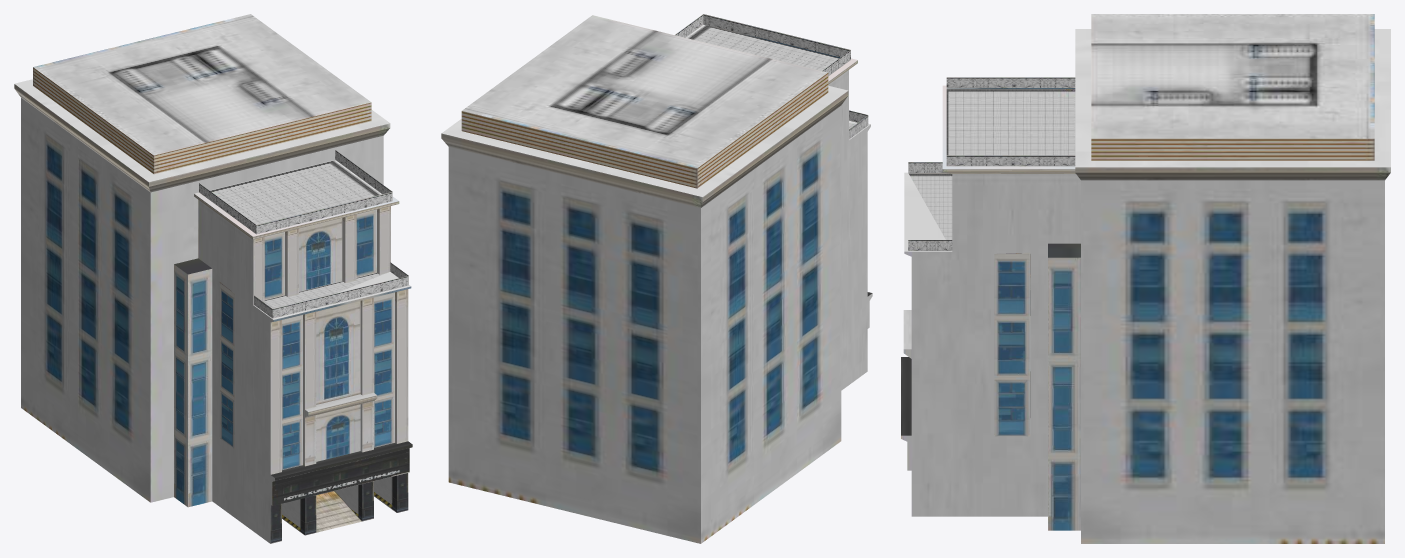
3 views of the same model, side by side, from view 1: azimuth 30°, elevation 25°; view 2: azimuth 150°, elevation 25°; view 3: azimuth 270°, elevation 25° (orthographic). The views are drawn at different scales.
Parts seen in each view (by area): view 1: Mesh1; view 2: Mesh1; view 3: Mesh1.
Part boxes in pixels (<box>): Mesh1: <box>14,14,412,543</box>; Mesh1: <box>441,14,872,543</box>; Mesh1: <box>901,14,1390,543</box>.
Size of the model in its own units: 22.8 by 30.84 by 34.13.
Materials: 1 (1 with a texture image).
